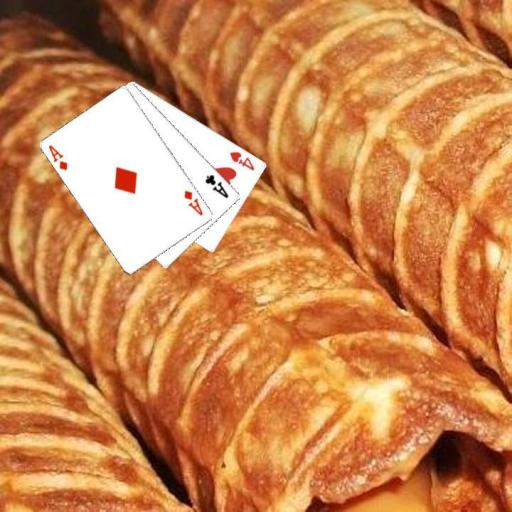4H: (227, 148, 257, 172)
AC: (202, 171, 230, 200)
AD: (181, 187, 205, 218), (46, 142, 70, 172)
